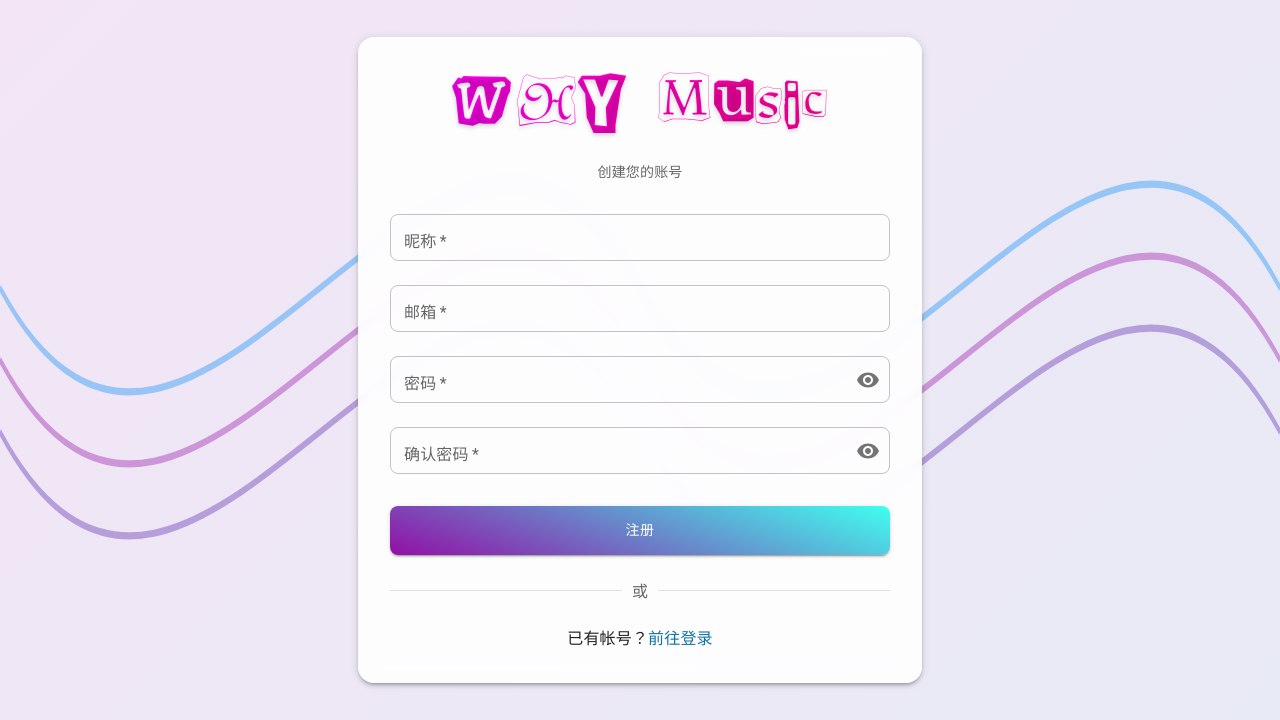
it: 注册页面测试 › 密码强度检测
Step 1. Type "123" into the password field labelled "密码 *" → (615,380), box [390, 356, 840, 403]
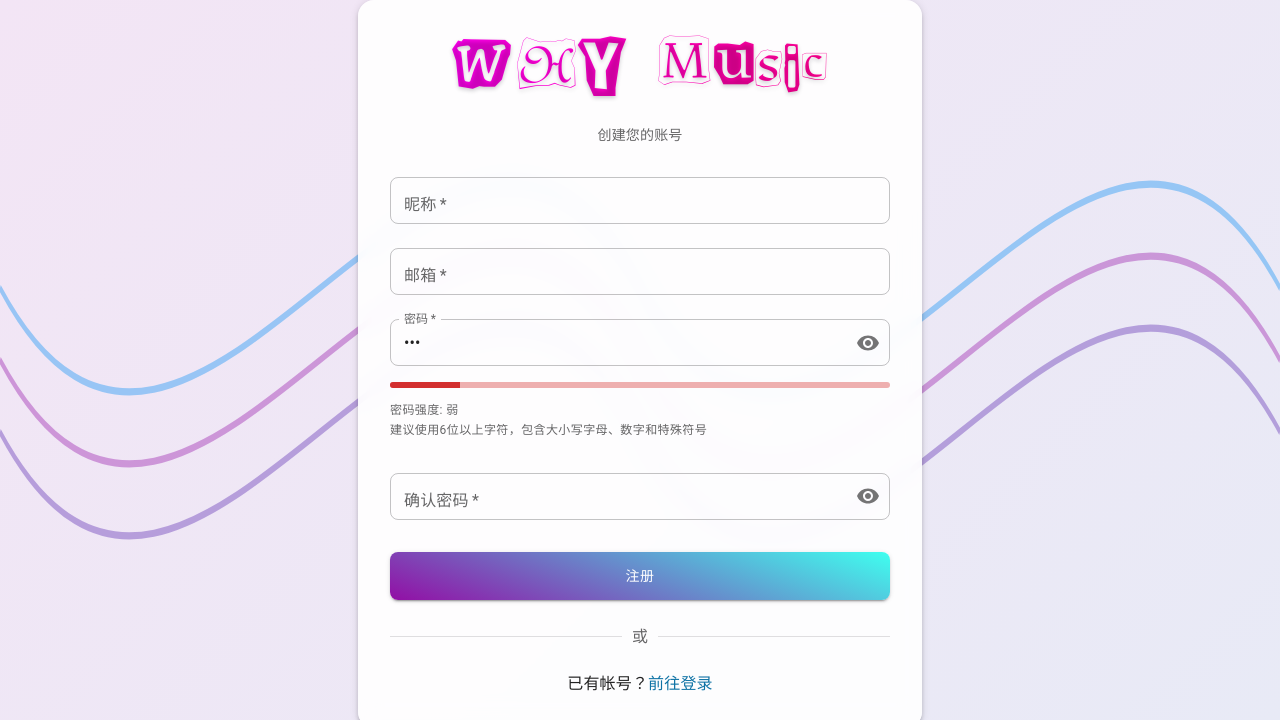
Now the text "密码强度: 弱" is shown, box [390, 403, 459, 417]
Step 2. Type "Password123" into the password field labelled "密码 *" → (615,342), box [390, 319, 840, 366]
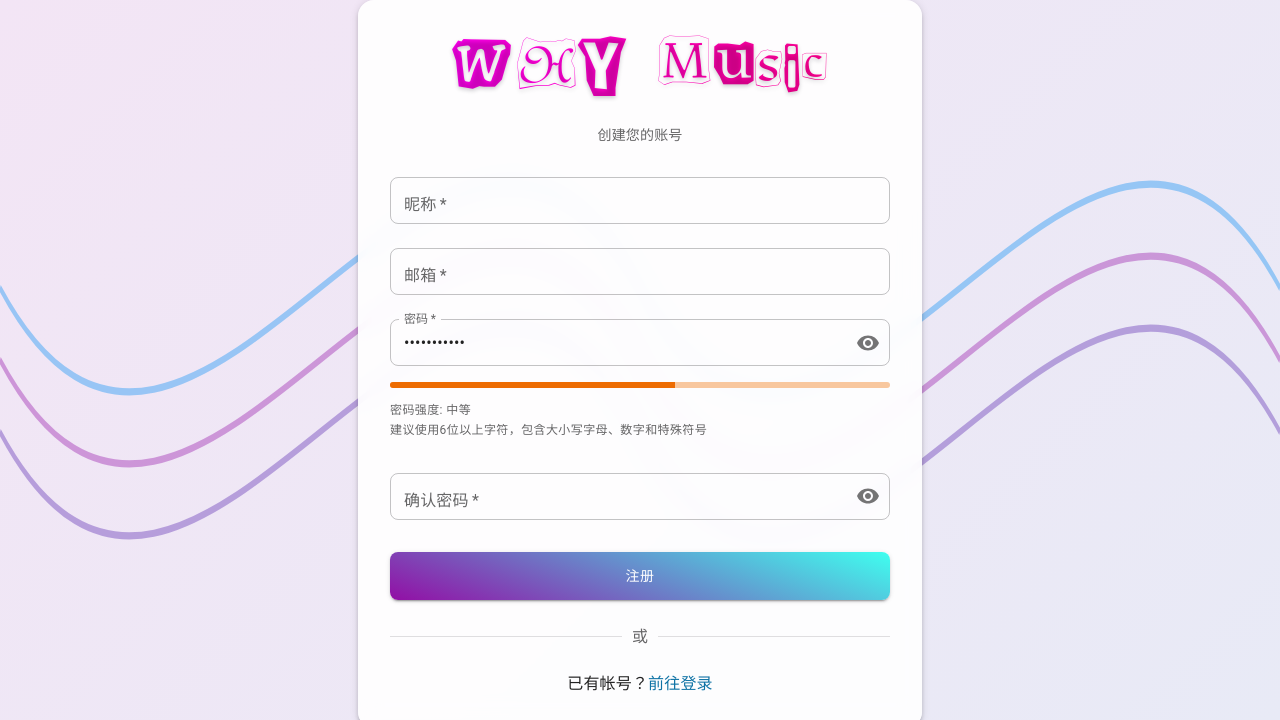
Now the text "密码强度: 中等" is shown, box [390, 403, 471, 417]
Step 3. Type "Password123!@#" into the password field labelled "密码 *" → (615,342), box [390, 319, 840, 366]
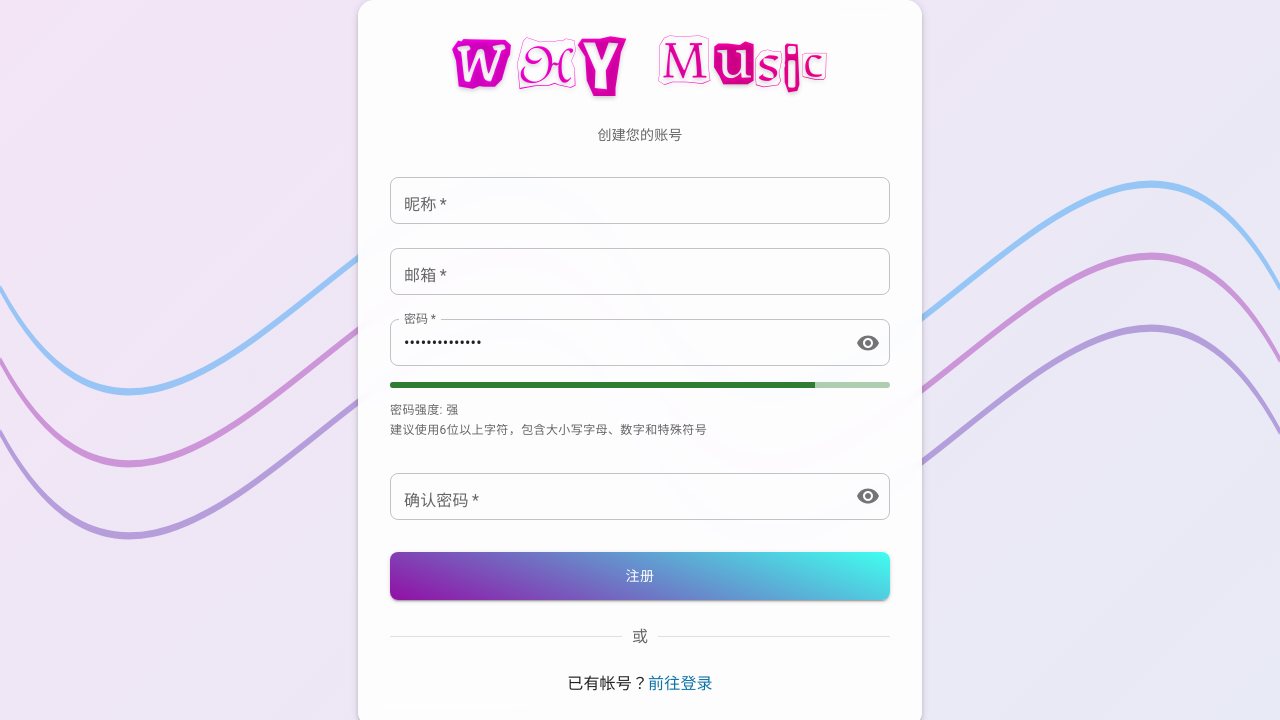
Now the text "密码强度: 强" is shown, box [390, 403, 459, 417]
